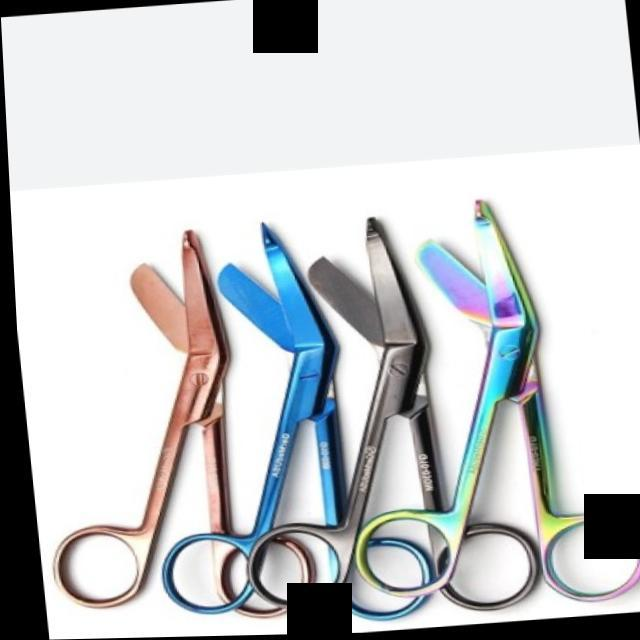Bandage Sciccors: (17, 228, 296, 631), (401, 180, 640, 628), (282, 201, 527, 631), (197, 214, 426, 637)
